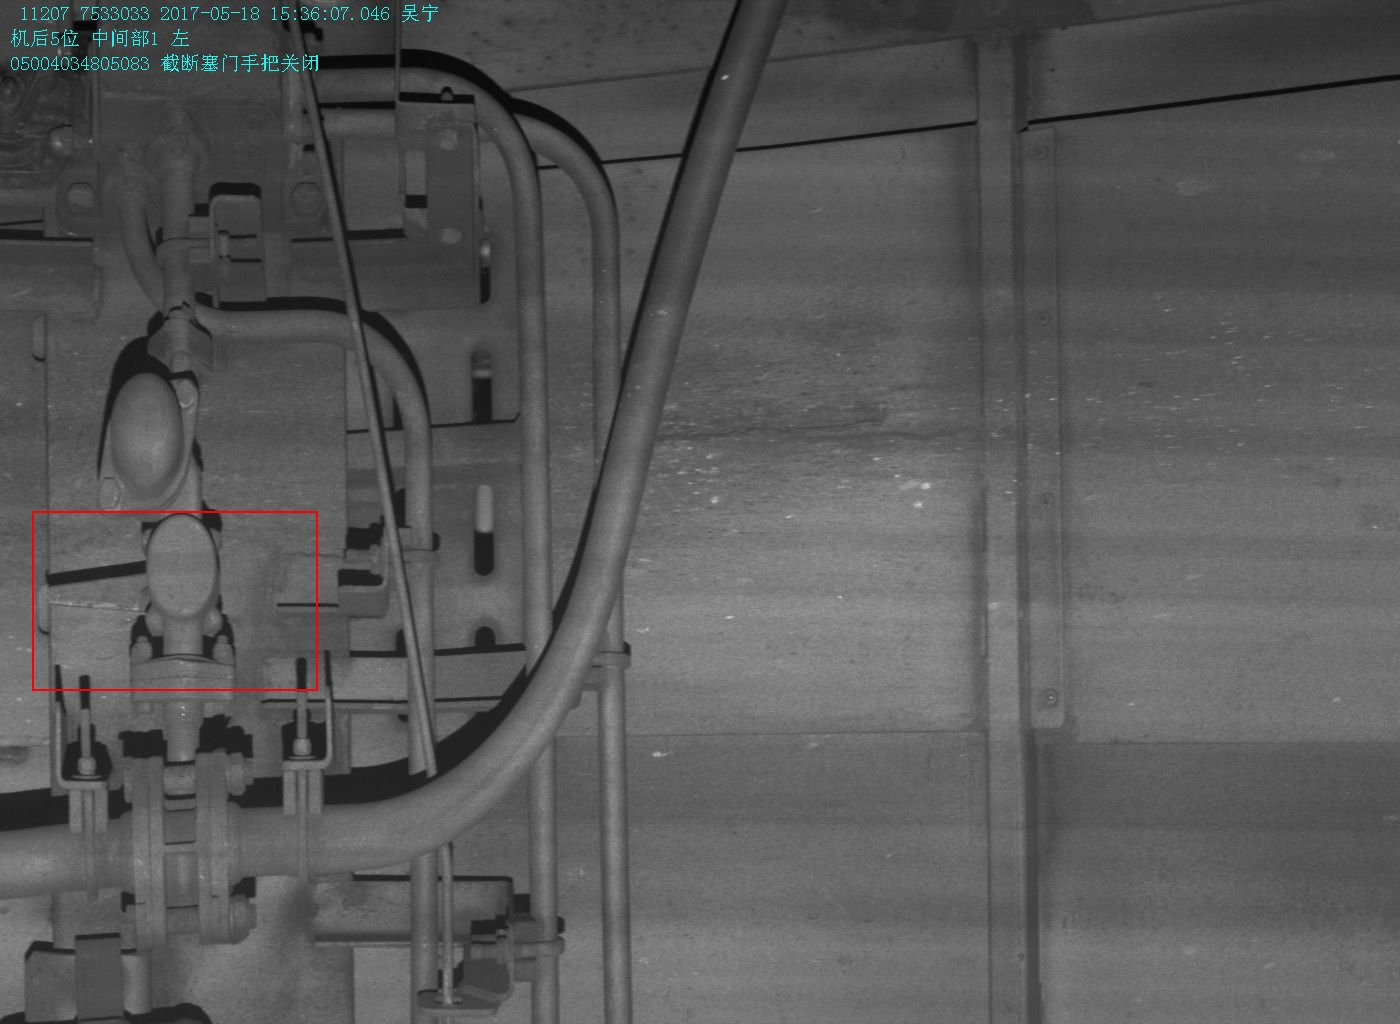truncated plug door handle: (46, 515, 243, 637)
